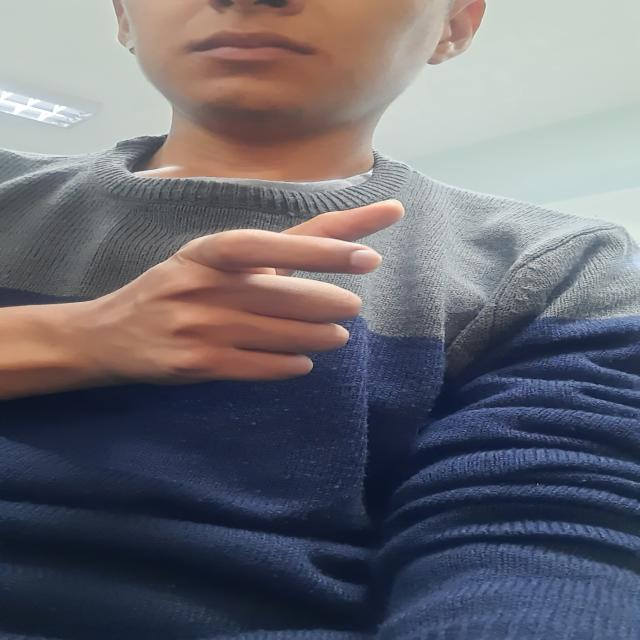G: (74, 196, 418, 390)
